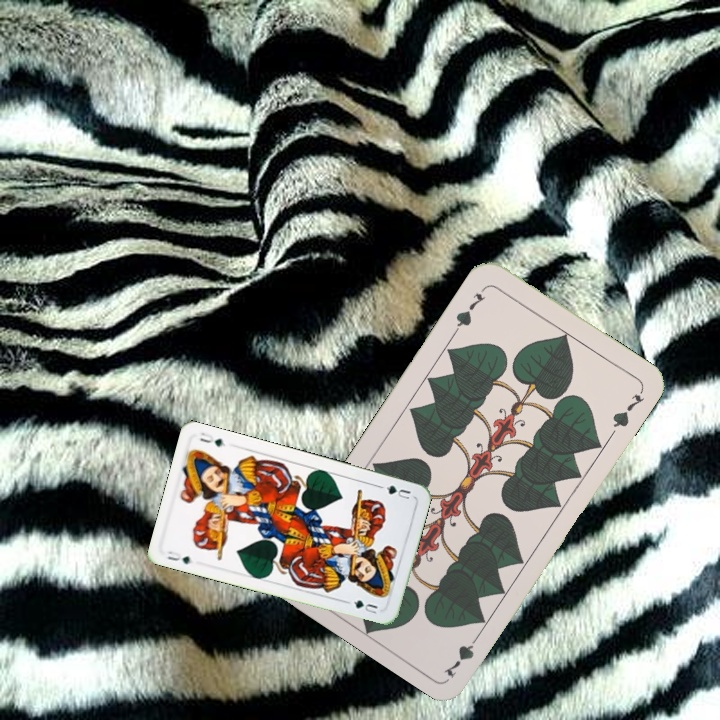G7: (439, 627, 484, 680), (450, 283, 489, 335)
GU: (382, 481, 413, 502), (163, 547, 195, 567)
